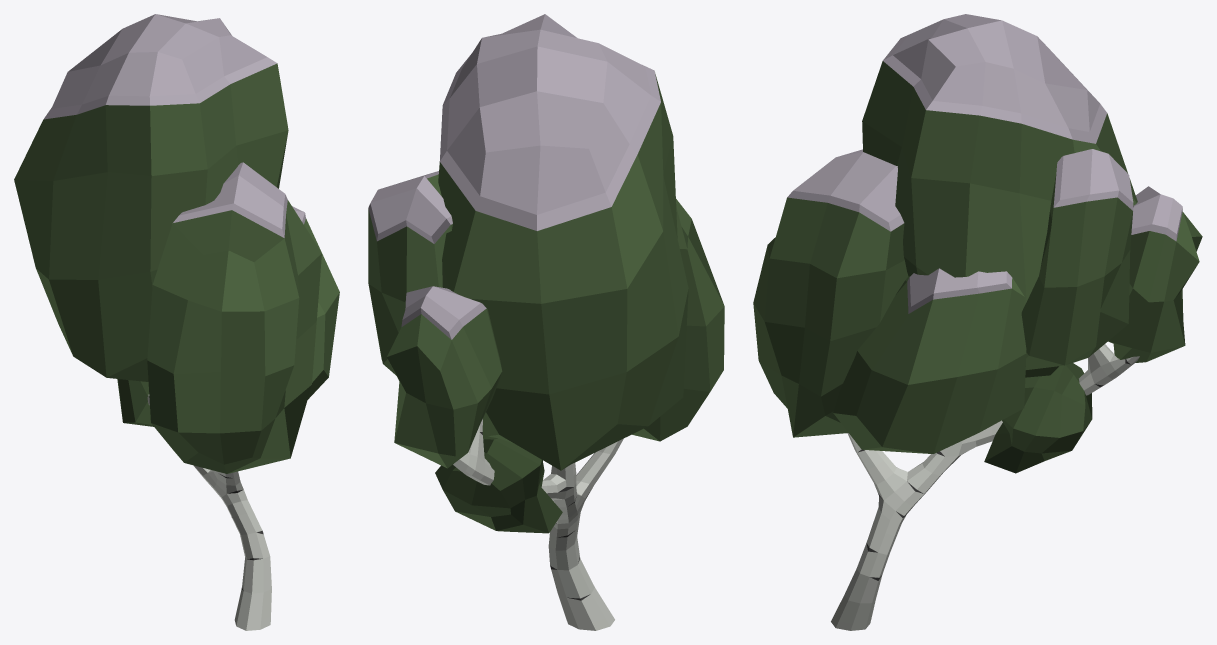
Rendered from BirchTree_Snow_1.glb.
3 views of the same model, side by side, from view 1: azimuth 30°, elevation 25°; view 2: azimuth 150°, elevation 25°; view 3: azimuth 270°, elevation 25° (orthographic). The views are drawn at different scales.
Parts seen in each view (by area): view 1: BirchTree_Snow_1; view 2: BirchTree_Snow_1; view 3: BirchTree_Snow_1.
Boxes of the visible parts, x1,y1,x2,y2 form: BirchTree_Snow_1: (14,14,339,630); BirchTree_Snow_1: (368,14,724,630); BirchTree_Snow_1: (753,14,1202,630).
Size of the model in its own units: 0.6807 by 1.44 by 0.9919.
